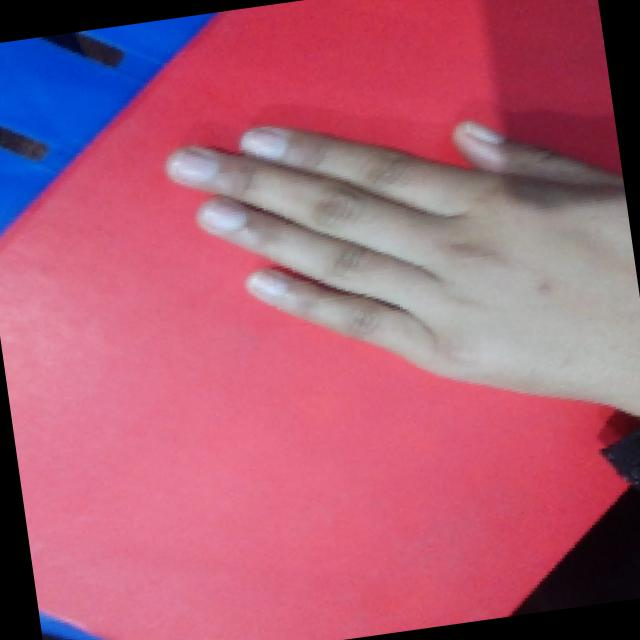Nail: (166, 148, 218, 184), (197, 198, 247, 233), (239, 128, 284, 157), (246, 272, 287, 297), (462, 121, 504, 144)
